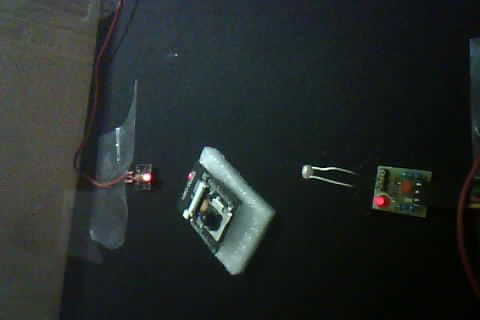esp32: (172, 155, 248, 272)
